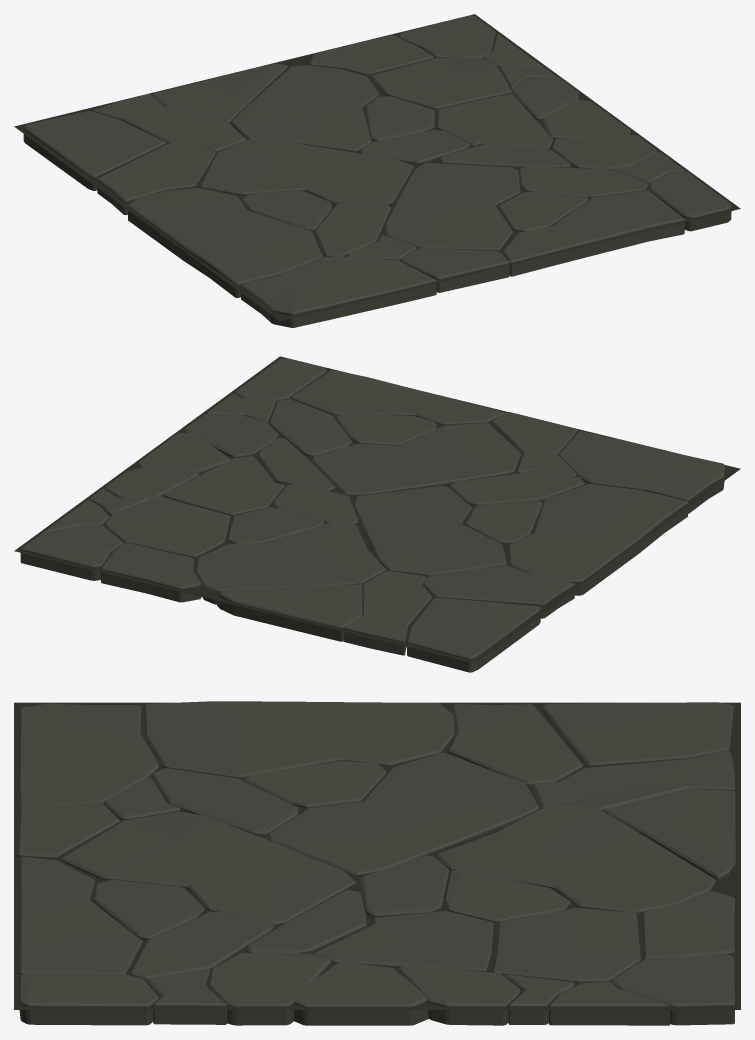
Rendered from stone_floor.gltf.
3 renders of one model, top to bottom at view 1: azimuth 30°, elevation 25°; view 2: azimuth 150°, elevation 25°; view 3: azimuth 270°, elevation 25°, orthographic. The views are drawn at different scales.
Parts seen in each view (by area): view 1: FloorTIle; view 2: FloorTIle; view 3: FloorTIle.
Part boxes in pixels (box(x1,y1,x2,y2)): FloorTIle: box(14, 14, 740, 327); FloorTIle: box(14, 356, 740, 672); FloorTIle: box(14, 701, 740, 1025).
Bounding box in the file's own units: 4 × 0.1439 × 4.
1 material, 1 textured.
